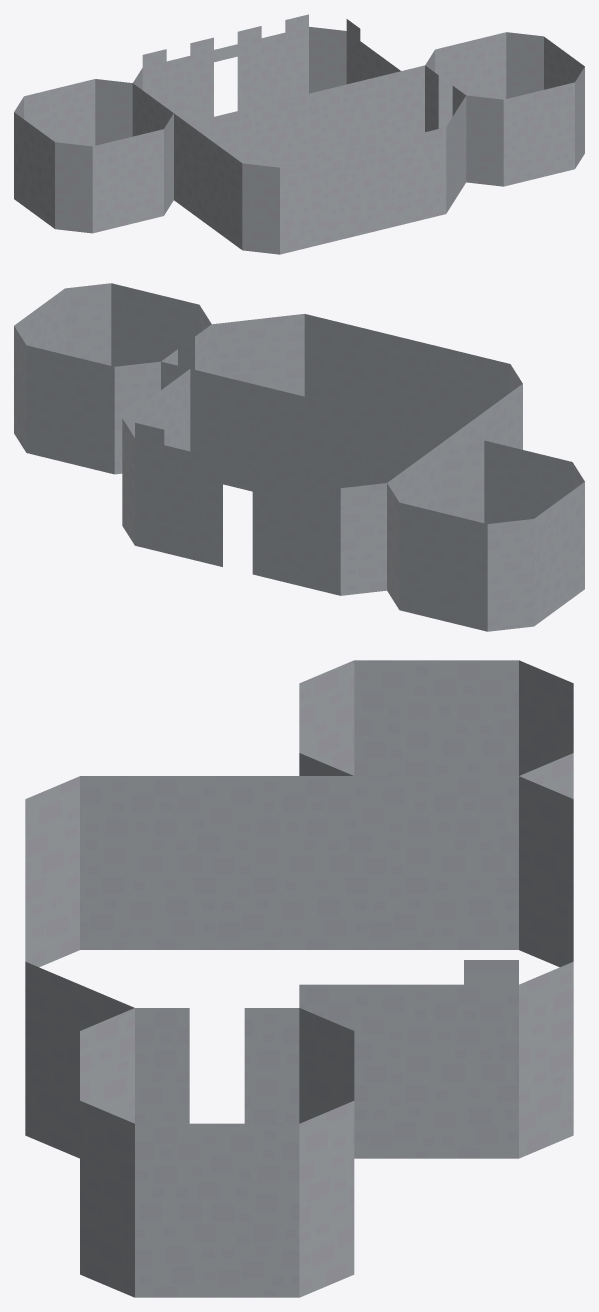
Rendered from building_den.glb.
The picture shows the model from 3 angles, top to bottom: view 1: azimuth 30°, elevation 25°; view 2: azimuth 150°, elevation 25°; view 3: azimuth 270°, elevation 25°; orthographic projection. The views are drawn at different scales.
Visible parts, largest first — view 1: building_den; view 2: building_den; view 3: building_den.
Part boxes in pixels (x1,y1,x2,y2): building_den: [14, 14, 584, 254]; building_den: [14, 283, 584, 631]; building_den: [25, 660, 573, 1297].
Size of what is drawn, in the model's own units: 20 by 4 by 10.
Materials: 1 (1 with a texture image).
